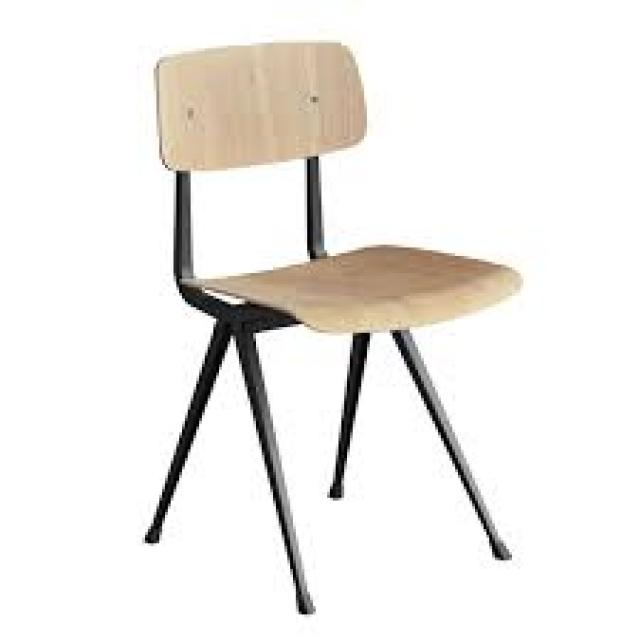chair: (56, 9, 544, 629)
